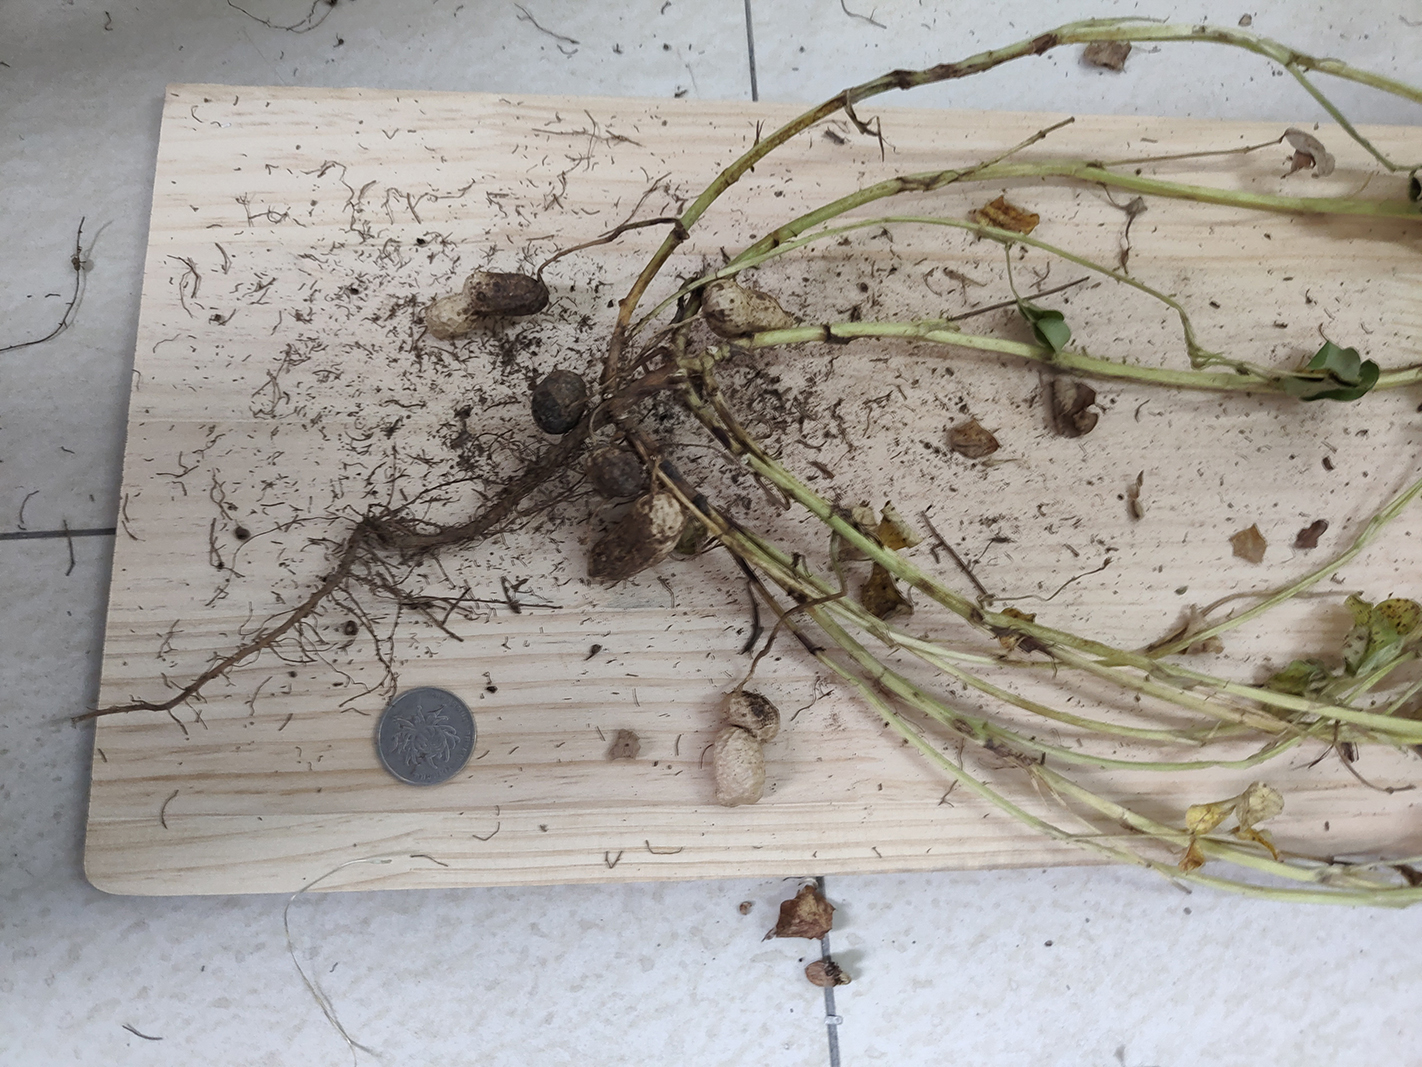h: (708, 692, 786, 806), (705, 280, 797, 335)
l: (426, 271, 549, 338), (588, 498, 685, 582), (532, 368, 588, 432), (592, 444, 651, 495)
